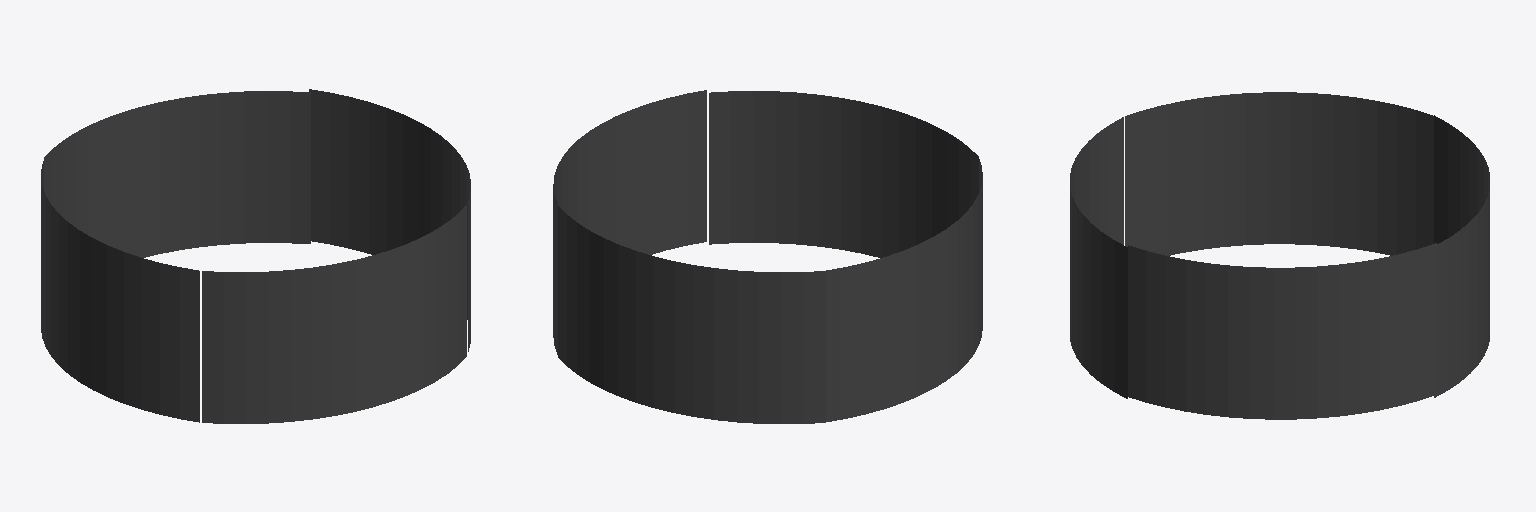
Rendered from Carrucel.obj.
3 views of the same model, side by side, from view 1: azimuth 30°, elevation 25°; view 2: azimuth 150°, elevation 25°; view 3: azimuth 270°, elevation 25° (orthographic).
Visible parts, largest first — view 1: Plane005, Plane001, Plane004, Plane003; view 2: Plane001, Plane005, Plane004, Plane003; view 3: Plane003, Plane004, Plane005, Plane001.
Boxes of the visible parts, x1=… form: Plane005: x1=202, y1=205, x2=466, y2=423; Plane001: x1=44, y1=91, x2=310, y2=257; Plane004: x1=41, y1=161, x2=199, y2=422; Plane003: x1=309, y1=89, x2=470, y2=351; Plane001: x1=558, y1=206, x2=825, y2=423; Plane005: x1=709, y1=91, x2=978, y2=257; Plane004: x1=826, y1=159, x2=982, y2=421; Plane003: x1=553, y1=90, x2=706, y2=354; Plane003: x1=1128, y1=243, x2=1436, y2=419; Plane004: x1=1125, y1=92, x2=1433, y2=255; Plane005: x1=1070, y1=117, x2=1127, y2=398; Plane001: x1=1434, y1=115, x2=1489, y2=397.
Size of the model in its own units: 126 by 50.91 by 125.